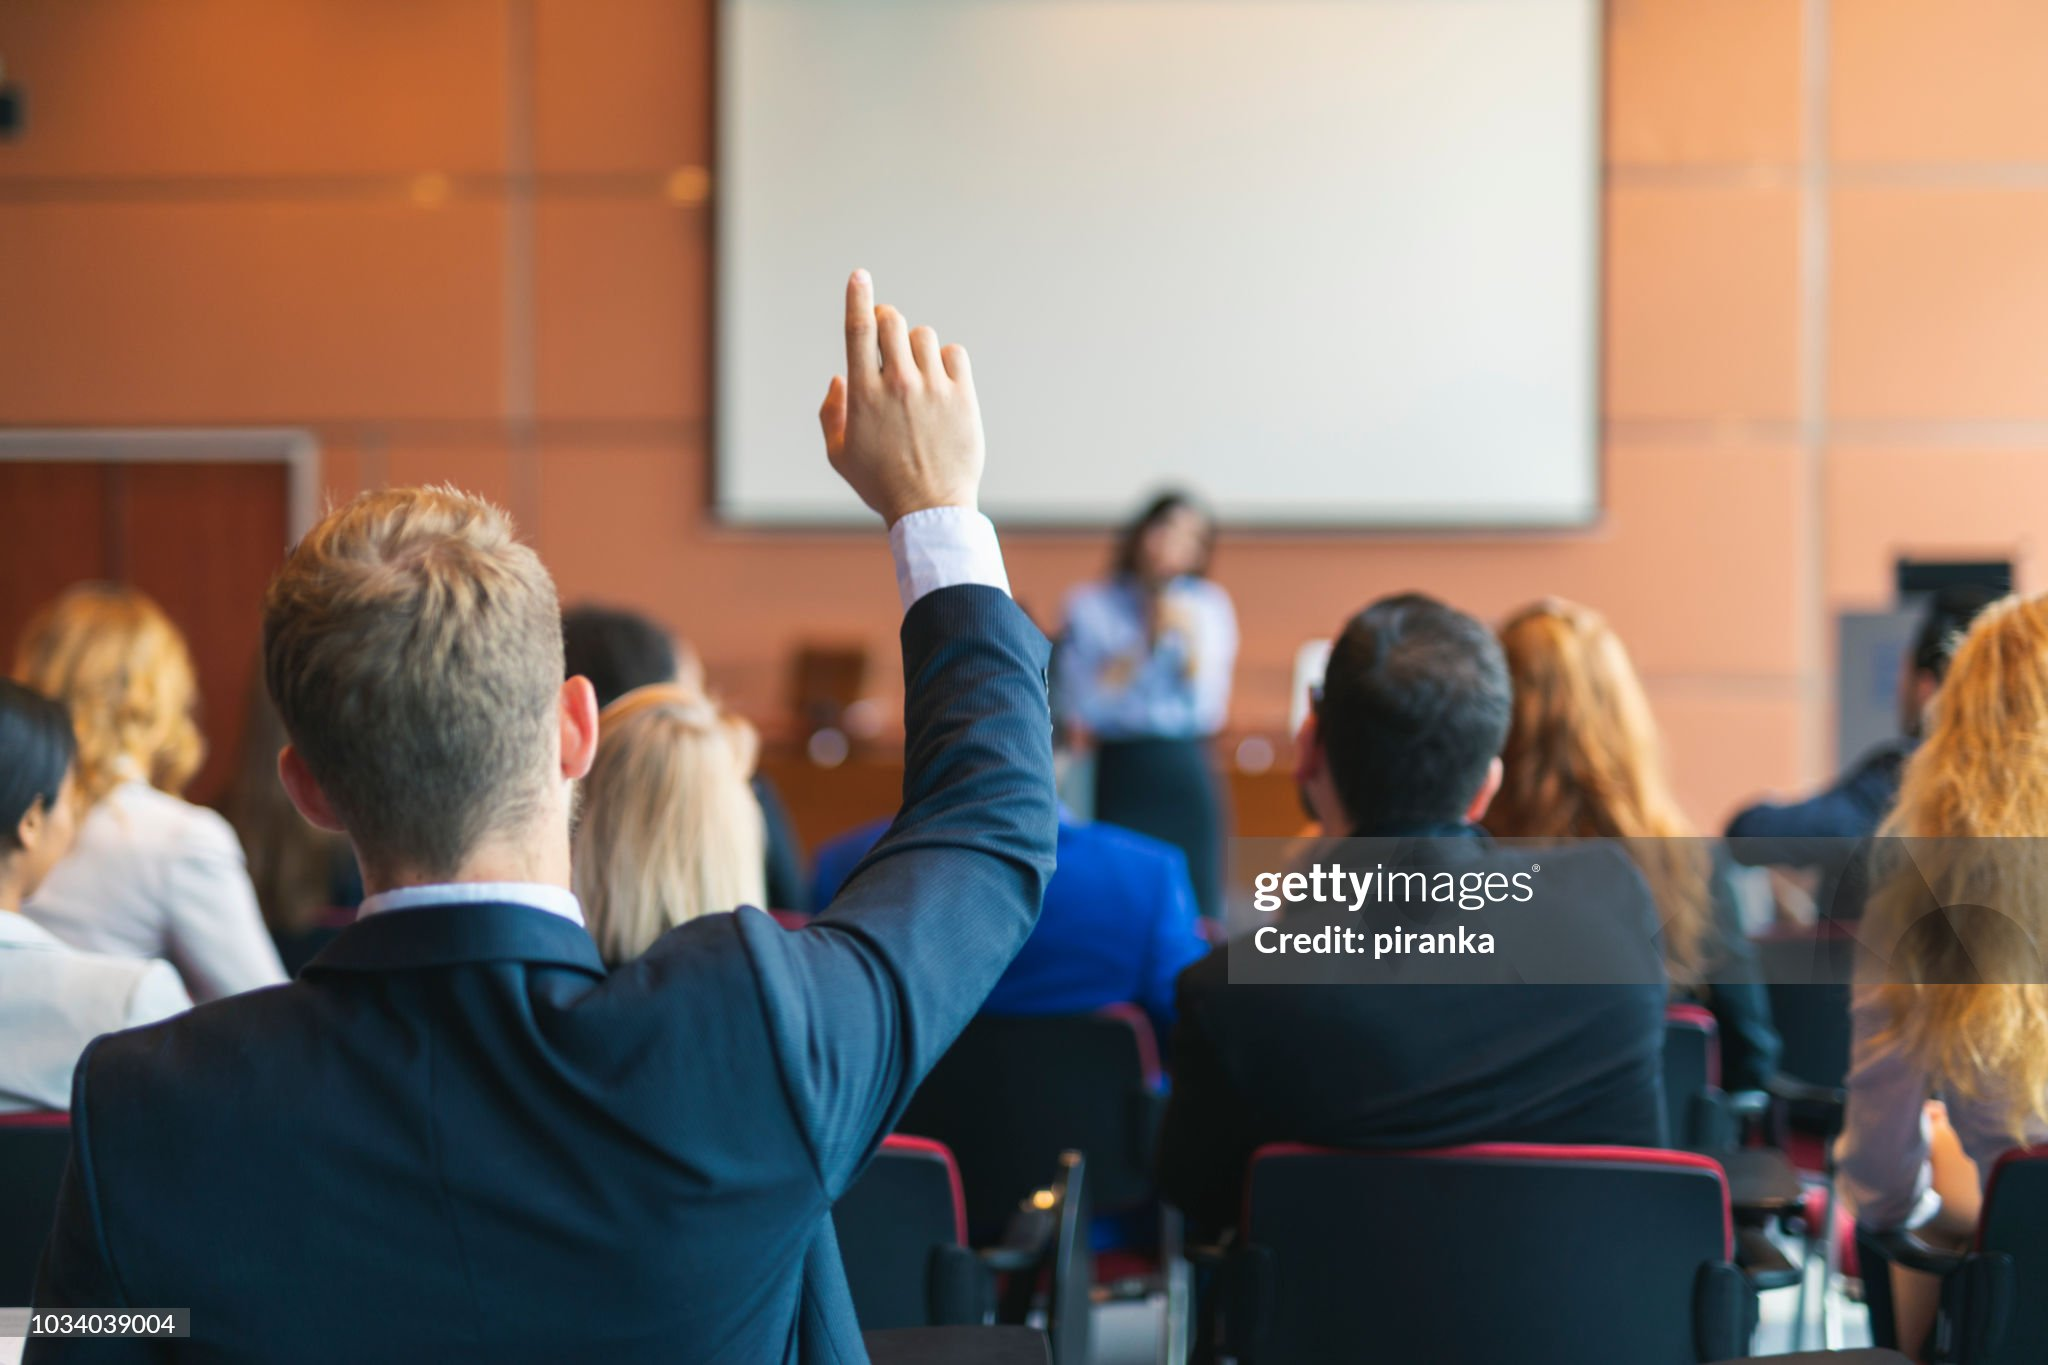entre-0-15-porcento: (9, 230, 2042, 1359)
